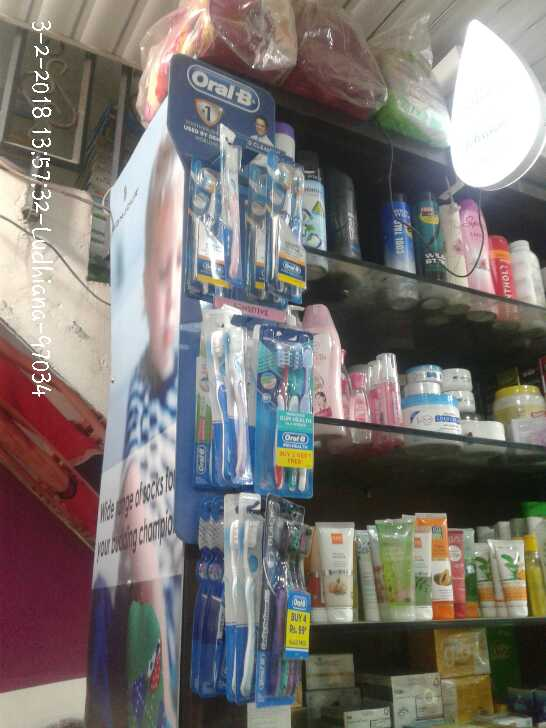oralb: (268, 506, 316, 705), (267, 332, 319, 496), (205, 322, 254, 485), (223, 516, 262, 699), (266, 145, 309, 304), (214, 149, 250, 289)
